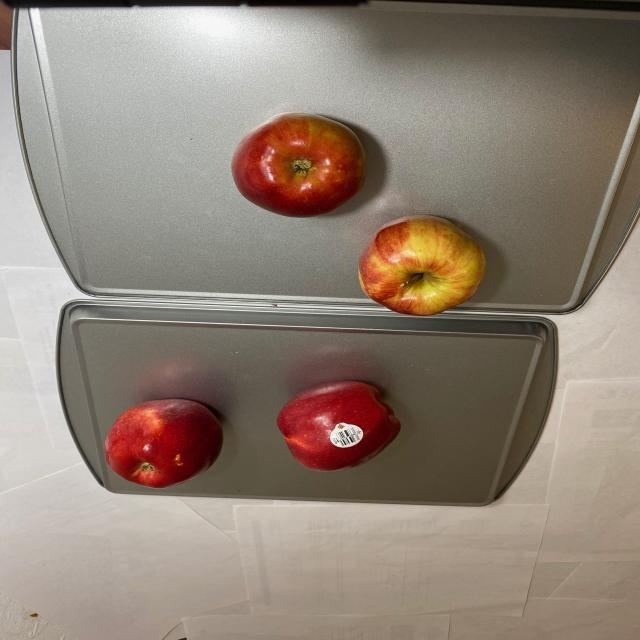apple: (225, 111, 492, 316), (96, 374, 408, 489)
